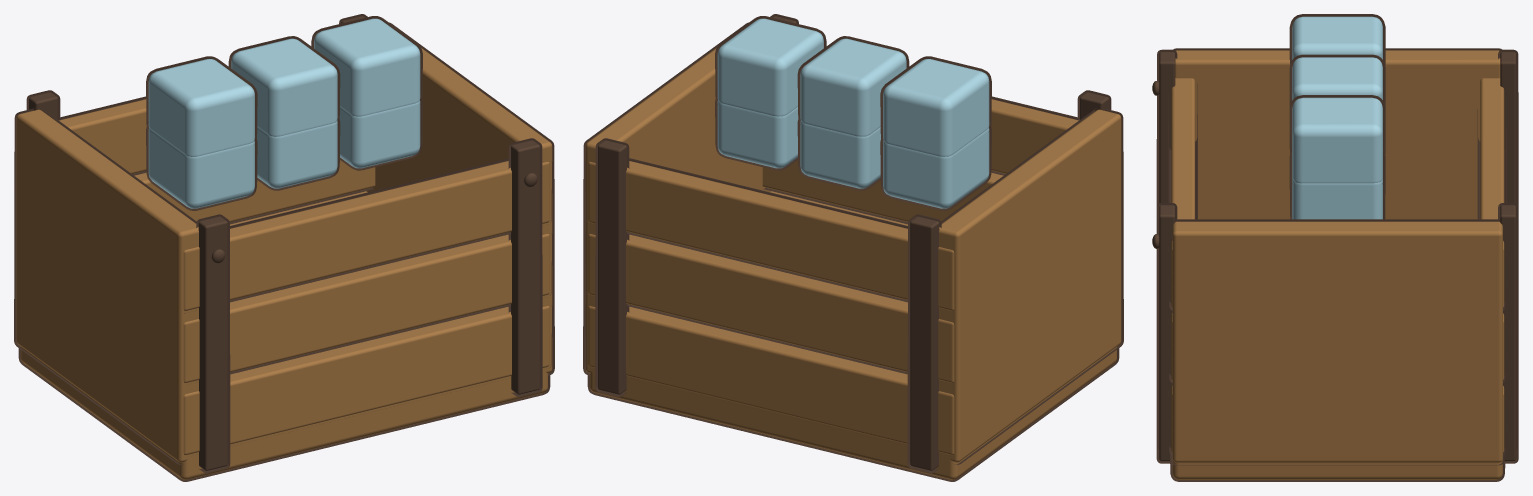
Rendered from prop_2004.glb.
3 views of the same model, side by side, from view 1: azimuth 30°, elevation 25°; view 2: azimuth 150°, elevation 25°; view 3: azimuth 270°, elevation 25° (orthographic).
Visible parts, largest first — view 1: prop_2004; view 2: prop_2004; view 3: prop_2004.
Part boxes in pixels (x1=…): prop_2004: x1=14, y1=14, x2=554, y2=481; prop_2004: x1=583, y1=14, x2=1123, y2=481; prop_2004: x1=1152, y1=14, x2=1518, y2=481.
Bounding box in the file's own units: 0.83 × 0.6782 × 0.692.
